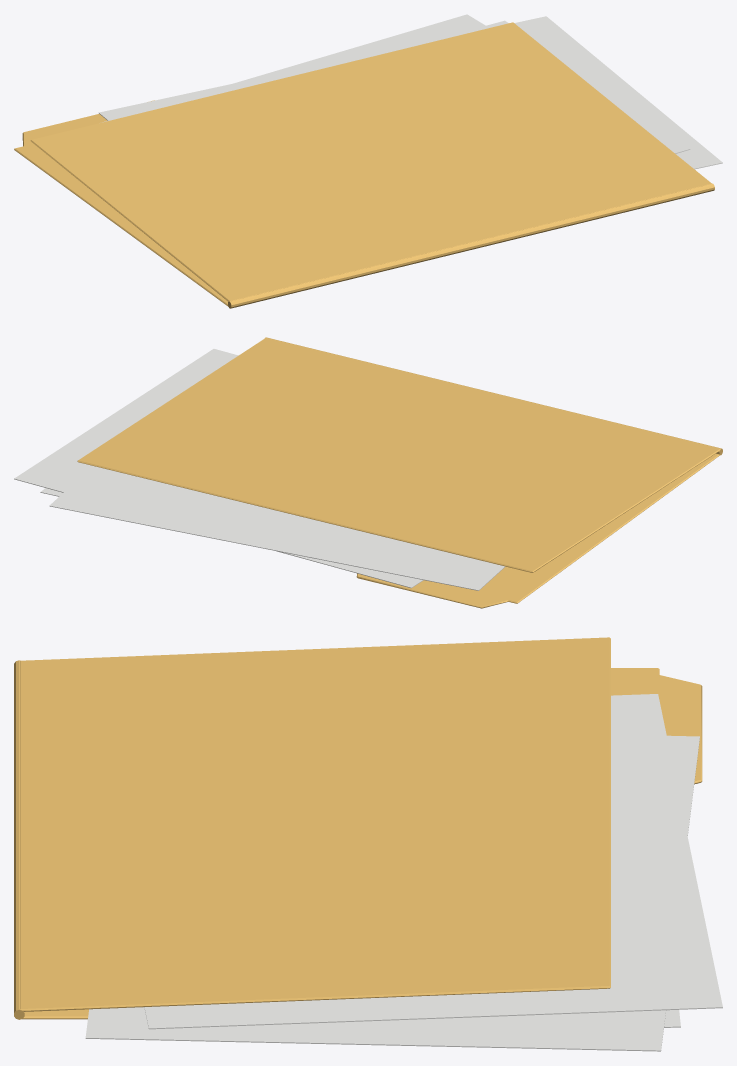
The model's file is Folder.fbx.
3 views of the same model, one above another, from view 1: azimuth 30°, elevation 25°; view 2: azimuth 150°, elevation 25°; view 3: azimuth 270°, elevation 25° (orthographic). The views are drawn at different scales.
Parts seen in each view (by area): view 1: Folder_Mesh; view 2: Folder_Mesh; view 3: Folder_Mesh.
Part boxes in pixels (<box>): Folder_Mesh: <box>14,14,722,308</box>; Folder_Mesh: <box>14,337,722,608</box>; Folder_Mesh: <box>14,637,722,1051</box>.
Bounding box in the file's own units: 0.342 × 0.0139 × 0.2657.
